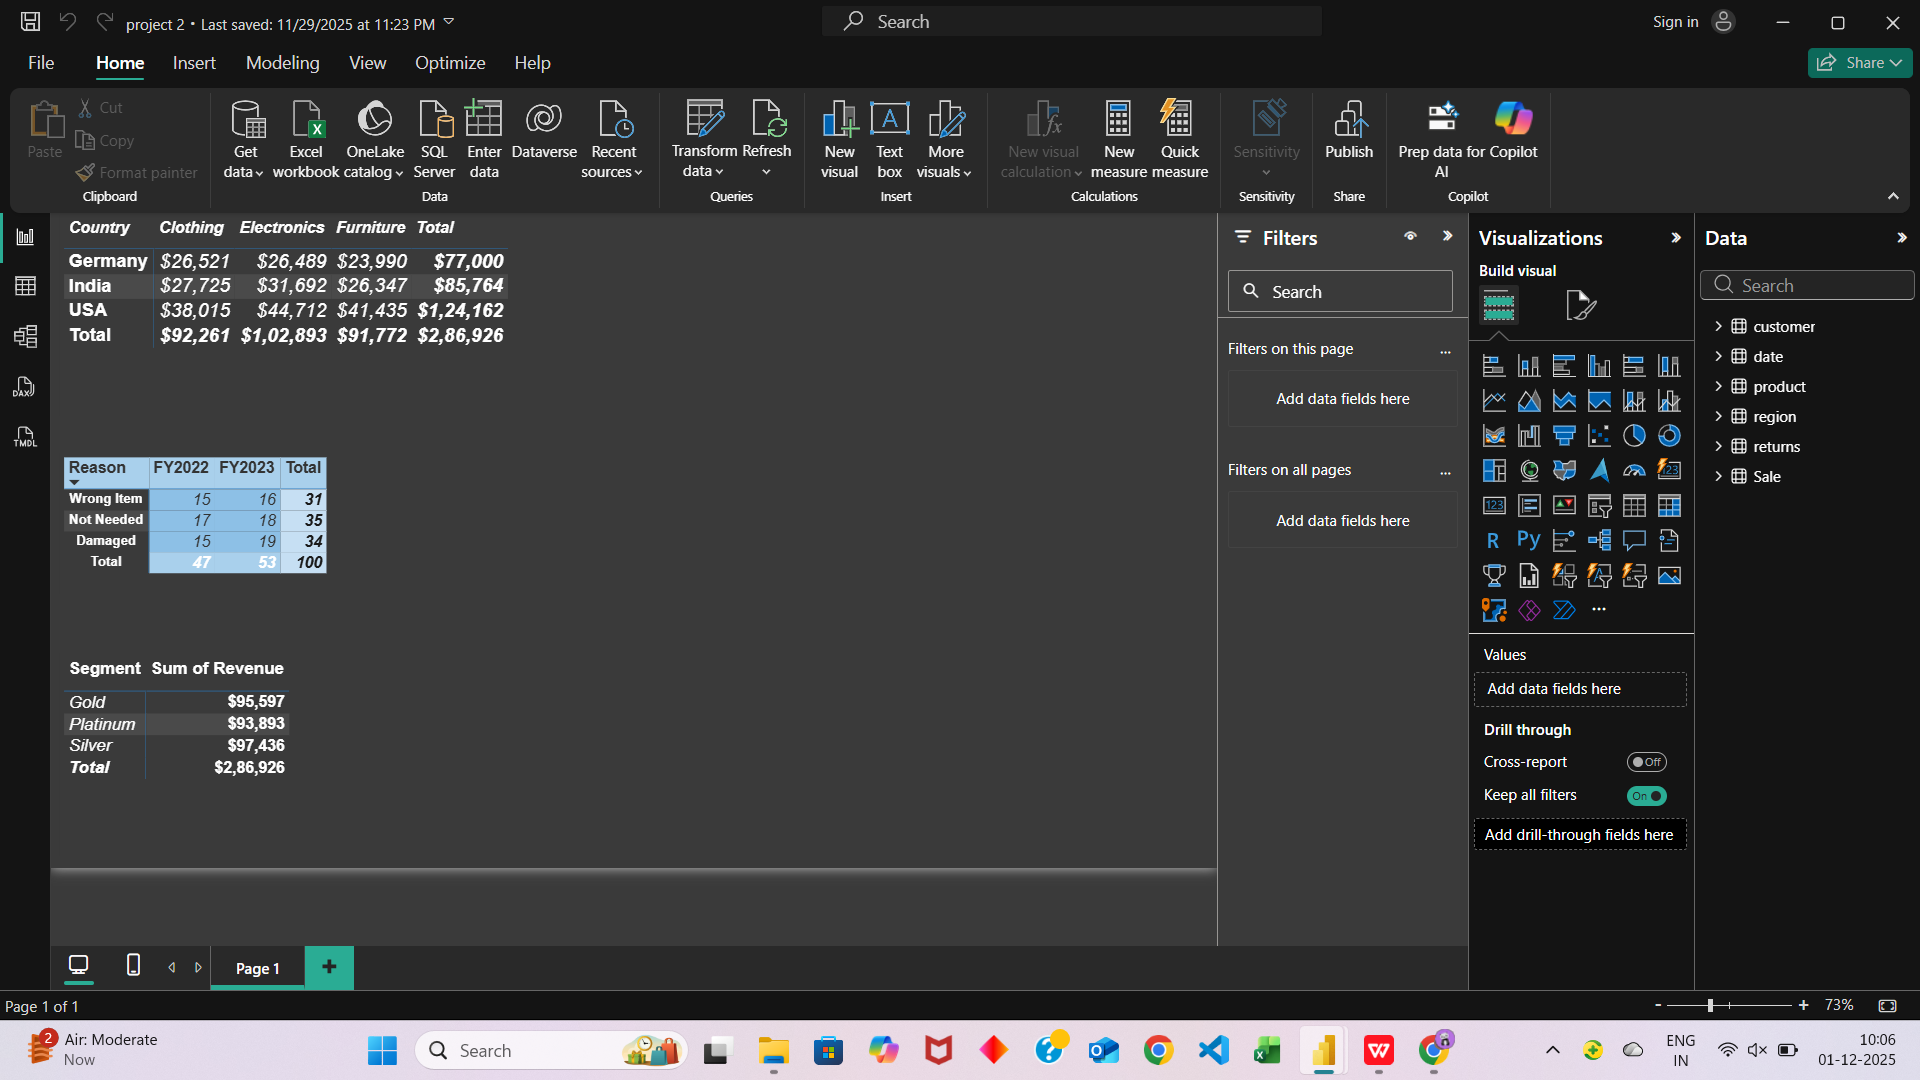

Layout of this report page (visuals, bound fields, positions):
{"tool":"powerbi","page":{"name":"Page 1","canvas":[1280,720],"ordinal":0},"visuals":[{"type":"pivotTable","fields":{"Rows":["region.Country"],"Columns":["product.Category"],"Values":["Sum(Sale.Revenue)"]},"box":[9.6,0,518.7,222.3],"z":0},{"type":"pivotTable","fields":{"Rows":["returns.Reason"],"Values":["CountNonNull(returns.ReturnID)"],"Columns":["date.Fiscal Year"]},"box":[9.8,263.8,311.7,154.6],"z":1},{"type":"pivotTable","fields":{"Rows":["customer.Segment"],"Values":["Sum(Sale.Revenue)"]},"box":[10,483,519,222],"z":2}]}

Visuals, with their boxes on the page's 1280x720 design canvas (x1, y1, x2, y2). These are canvas units, not pixel positions in the 1920x1080 screenshot, which may show the page scaled, cropped or inside an application window:
pivotTable - region.Country x product.Category: {"x1": 10, "y1": 0, "x2": 528, "y2": 222}
pivotTable - returns.Reason x CountNonNull(returns.ReturnID): {"x1": 10, "y1": 264, "x2": 322, "y2": 418}
pivotTable - customer.Segment x Sum(Sale.Revenue): {"x1": 10, "y1": 483, "x2": 529, "y2": 705}
